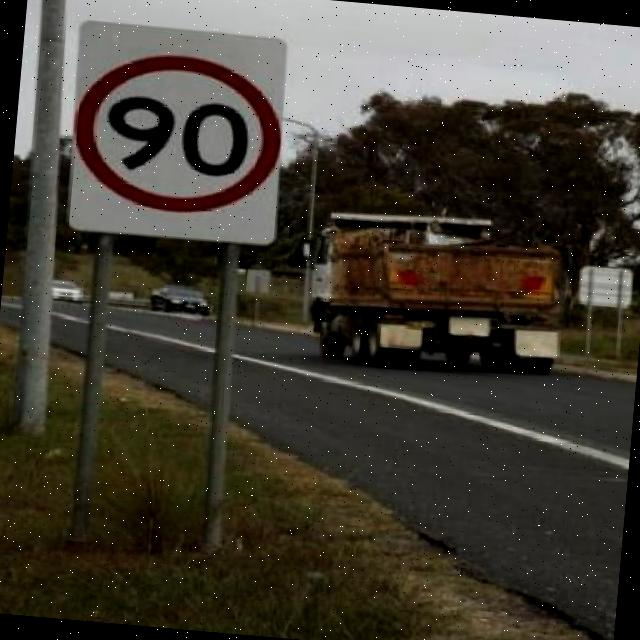Ograniczenie predkosci do 90: (71, 46, 284, 218)
